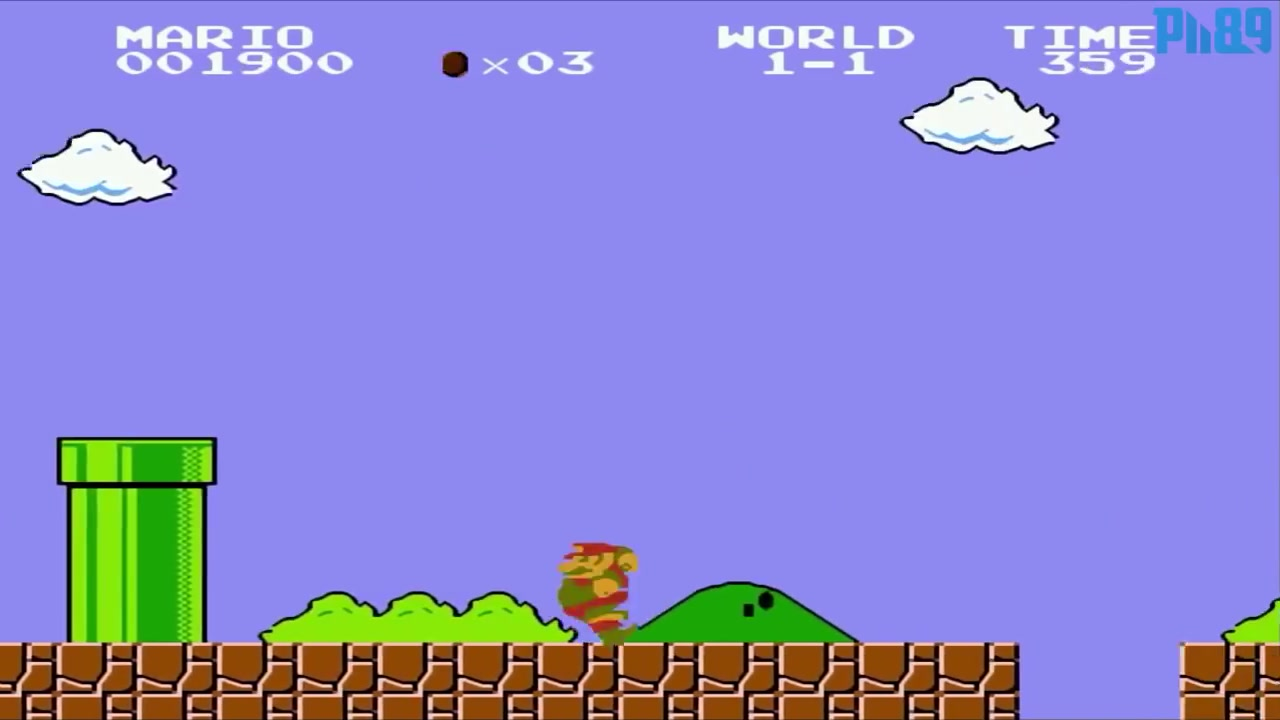mario: (550, 529, 647, 647)
